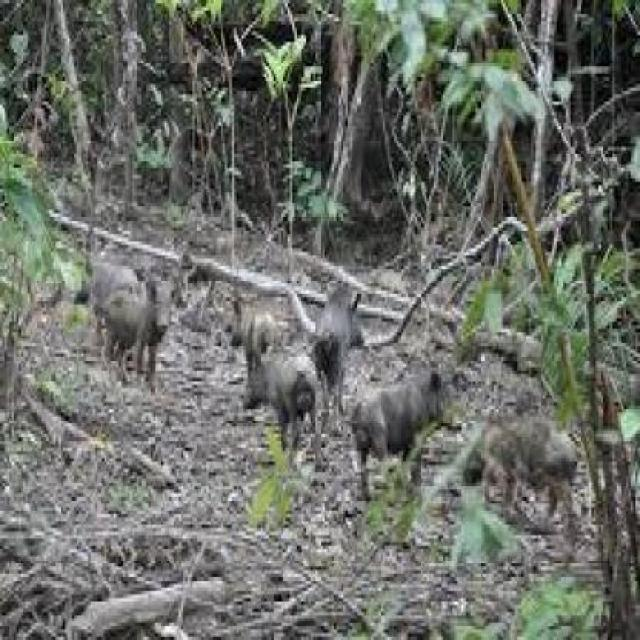wildboar: (342, 361, 460, 499), (90, 263, 181, 380), (237, 351, 332, 449), (308, 280, 364, 382), (222, 285, 278, 386)
